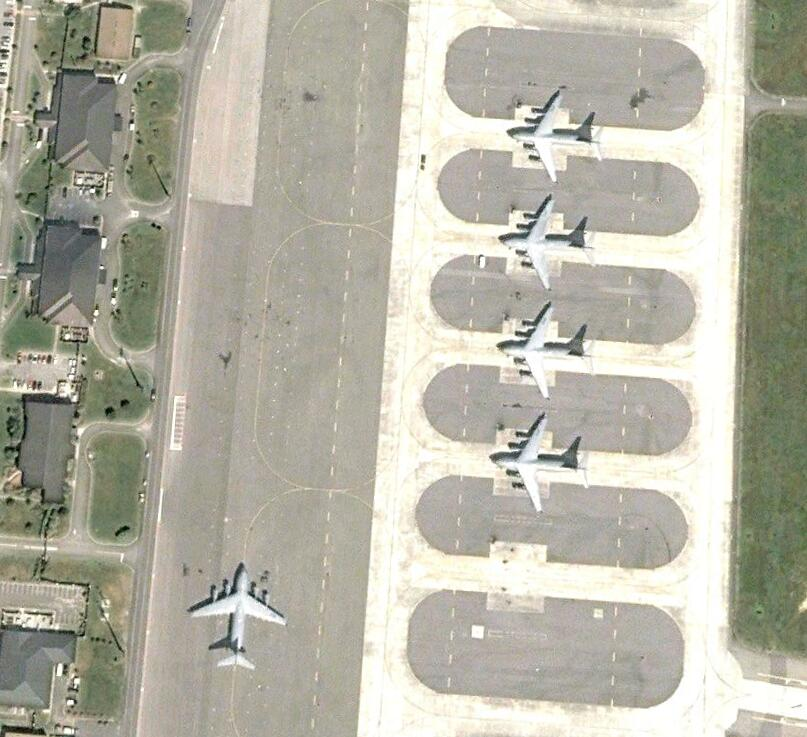A3: (190, 563, 288, 670), (492, 416, 593, 516), (499, 305, 595, 402), (500, 199, 597, 293), (509, 93, 607, 183)
